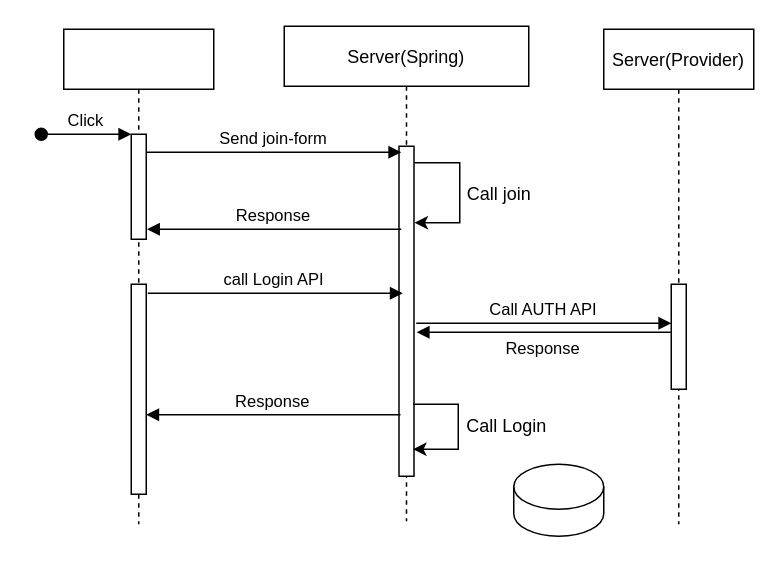
Some shapes in this 780 by 563 pixel diagram are drawn without their labels. Each missing label, with the centre of its shape:
Client(web): point (138, 276)
Redis: point (558, 499)
